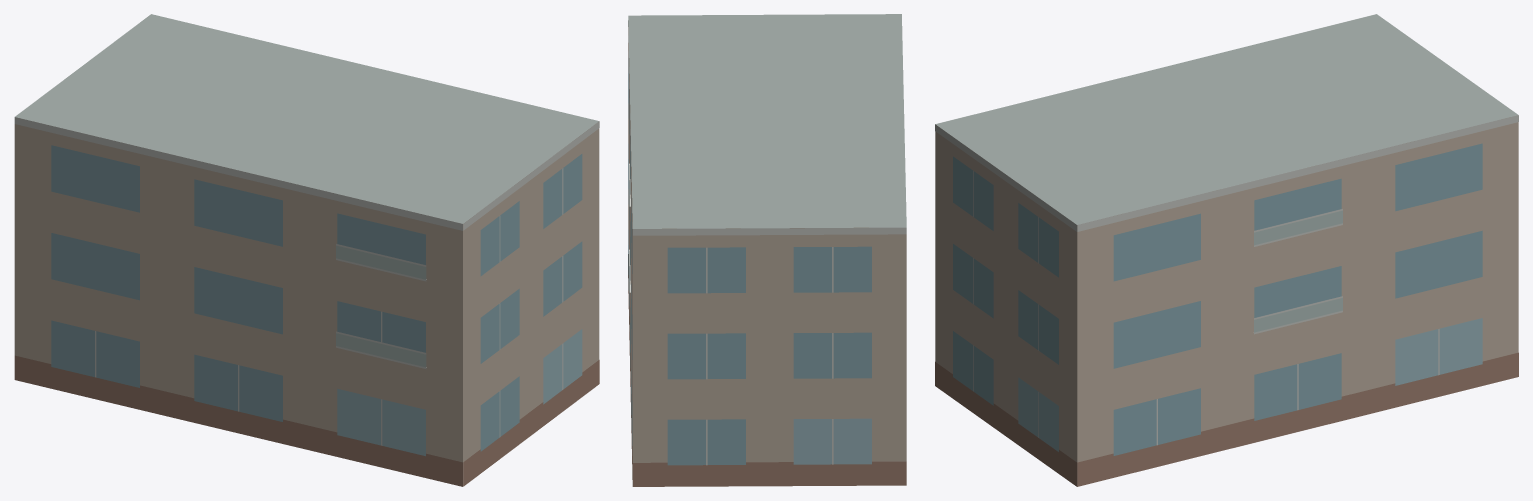
Rendered from survey-upis-32705853.glb.
3 views of the same model, side by side, from view 1: azimuth 30°, elevation 25°; view 2: azimuth 150°, elevation 25°; view 3: azimuth 270°, elevation 25° (orthographic).
Visible parts, largest first — view 1: survey-upis-32705853.tmp; view 2: survey-upis-32705853.tmp; view 3: survey-upis-32705853.tmp.
Part boxes in pixels (<box>): survey-upis-32705853.tmp: <box>14,14,599,486</box>; survey-upis-32705853.tmp: <box>628,14,906,486</box>; survey-upis-32705853.tmp: <box>935,14,1518,486</box>.
Size of the model in its own units: 15.83 by 9.15 by 18.49.
